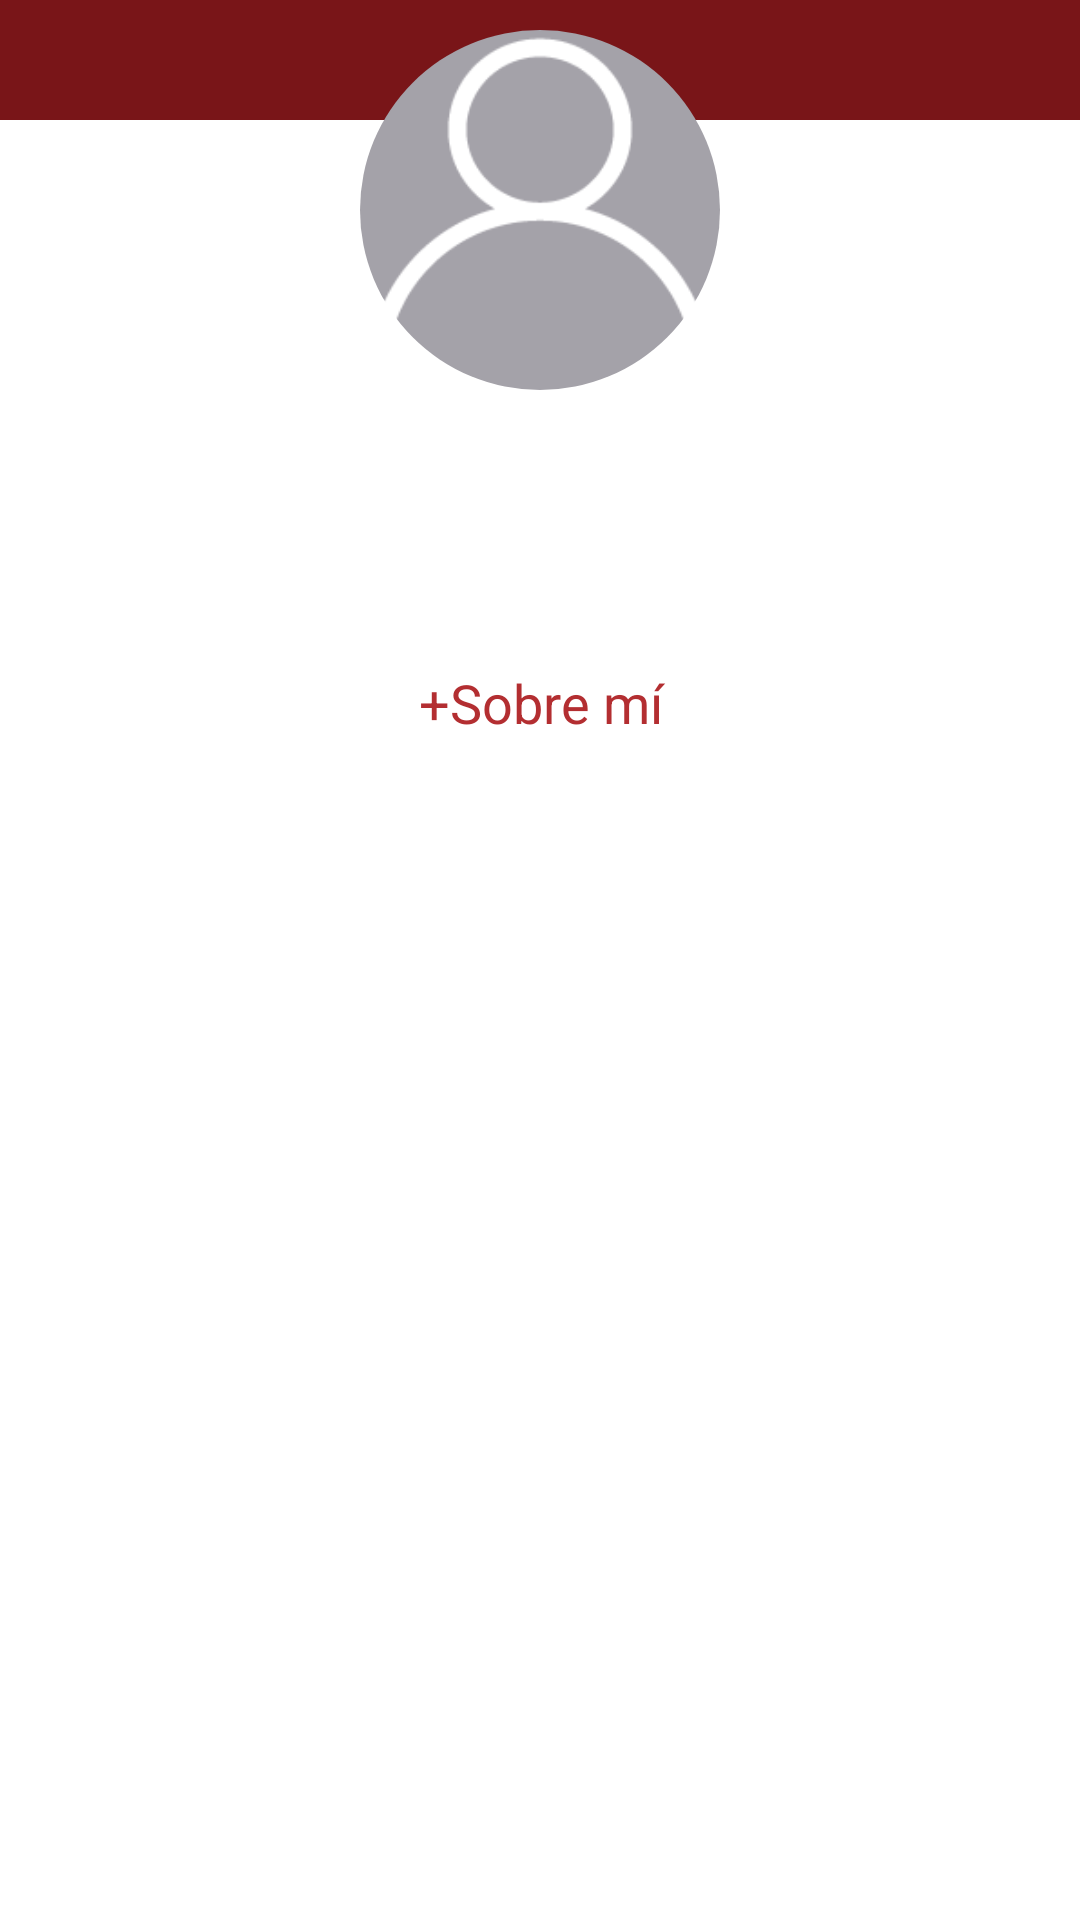

Point at icon controls on the screen. Image size 1080px x 1920px, points as (x=x, y=y).
perfil: (x=540, y=210)
